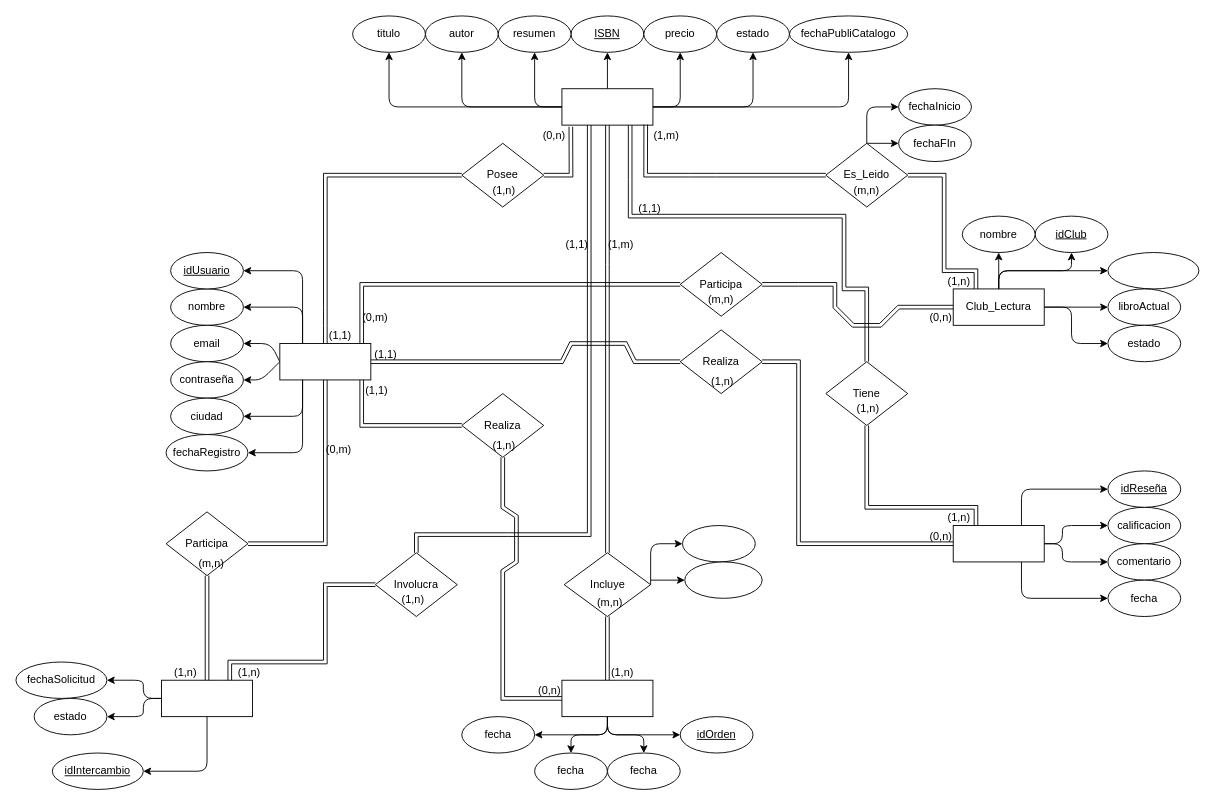
This 1215x805 diagram has some shape labels left out. Each missing label, with the centre of its shape:
cantidad: the point at 718,543
fechaCreacion: the point at 1153,270
Intercambio: the point at 207,698
Libro: the point at 607,106
Orden_Compra: the point at 607,698
precioUnitario: the point at 723,579
Reseña: the point at 998,543
Usuario: the point at 325,361
